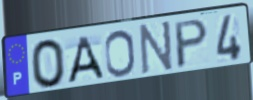4: (215, 12, 244, 63)
A: (65, 34, 106, 85)
N: (139, 19, 174, 77)
O: (29, 37, 68, 90), (103, 29, 137, 79)
P: (174, 17, 210, 72)
